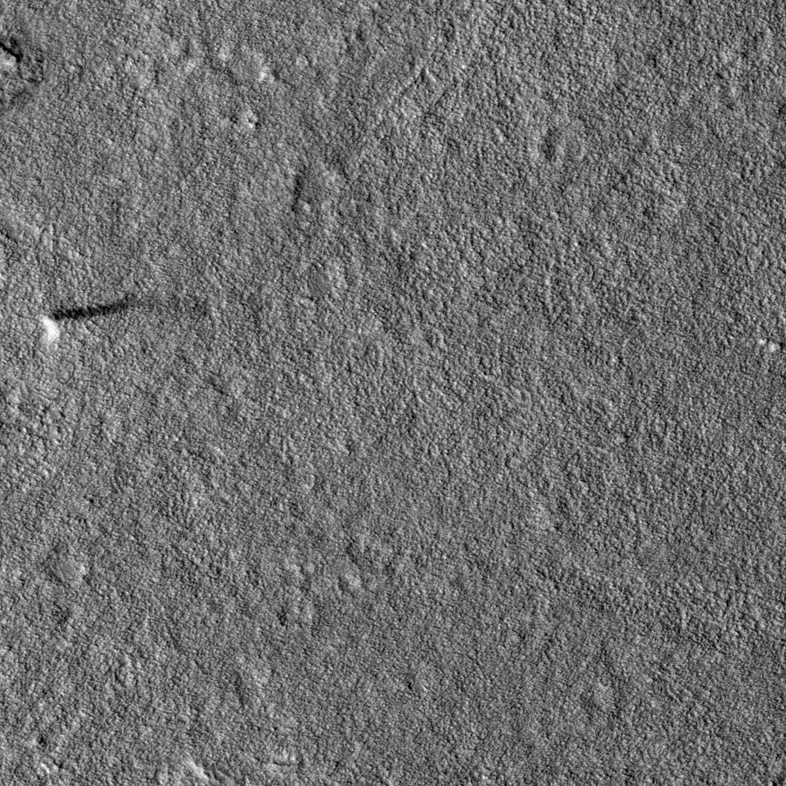dust_devil: (33, 286, 212, 350)
